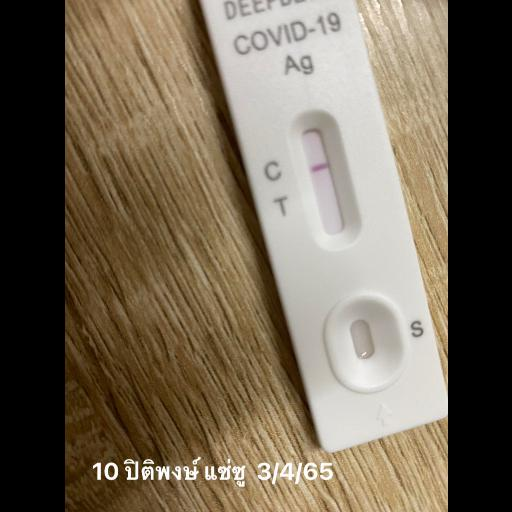Neg: (210, 1, 448, 453)
